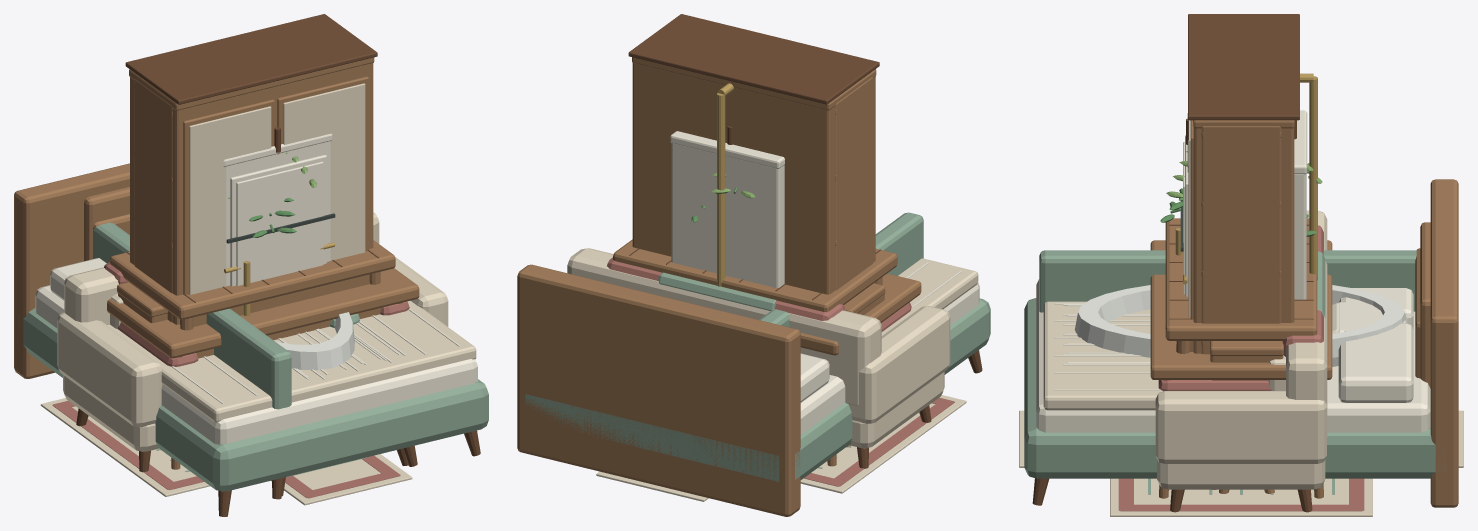
The model's file is furniture.glb.
The picture shows the model from 3 angles, left to right: view 1: azimuth 30°, elevation 25°; view 2: azimuth 150°, elevation 25°; view 3: azimuth 270°, elevation 25°; orthographic projection. The views are drawn at different scales.
Visible parts, largest first — view 1: Upholstered frame, Folded quilt, Crown moulding, Headboard, Mattress, Inset field.018, Inset field.006, Inset field.007, Rolled arm, Solid top, Carcase.002, Side panel (+23 smaller); view 2: Headboard, Carcase.002, Carcase.009, Crown moulding, Upholstered frame, Back, Rolled arm, Side panel, Solid top.004, Folded quilt, Woven rug, Side back (+13 smaller); view 3: Side panel.001, Upholstered frame, Rolled arm.001, Crown moulding, Headboard, Side back, Folded quilt, Mattress, Clawfoot basin, Solid top.004, Woven rug, Pillow.001 (+23 smaller).
Part boxes in pixels (x1,y1,x2,y2): Upholstered frame: (18, 308, 488, 491); Folded quilt: (107, 300, 476, 422); Crown moulding: (125, 14, 377, 104); Headboard: (14, 163, 129, 378); Mattress: (35, 285, 477, 444); Inset field.018: (236, 161, 323, 285); Inset field.006: (189, 106, 271, 294); Inset field.007: (283, 83, 365, 260); Rolled arm: (57, 312, 162, 427); Solid top: (107, 268, 419, 358); Carcase.002: (130, 63, 373, 324); Side panel: (135, 81, 172, 322); Headboard: (517, 264, 800, 516); Carcase.002: (632, 63, 875, 294); Carcase.009: (671, 143, 784, 287); Crown moulding: (628, 14, 879, 104); Upholstered frame: (525, 298, 990, 481); Back: (567, 248, 881, 406); Rolled arm: (849, 306, 950, 423); Side panel: (837, 77, 872, 288); Solid top.004: (613, 239, 897, 312); Folded quilt: (881, 258, 978, 335); Woven rug: (800, 395, 966, 493); Side back: (759, 212, 923, 327); Side panel.001: (1201, 126, 1274, 354); Upholstered frame: (1024, 298, 1445, 478); Rolled arm.001: (1155, 391, 1326, 463); Crown moulding: (1188, 14, 1299, 120); Headboard: (1430, 179, 1458, 507); Side back: (1039, 250, 1416, 312); Folded quilt: (1043, 301, 1163, 410); Mattress: (1036, 279, 1430, 432); Clawfoot basin: (1074, 285, 1406, 366); Solid top.004: (1165, 218, 1317, 340); Woven rug: (1110, 478, 1372, 516); Pillow.001: (1338, 323, 1413, 402).
Size of the model in its own units: 1.9 by 2.05 by 2.2.
